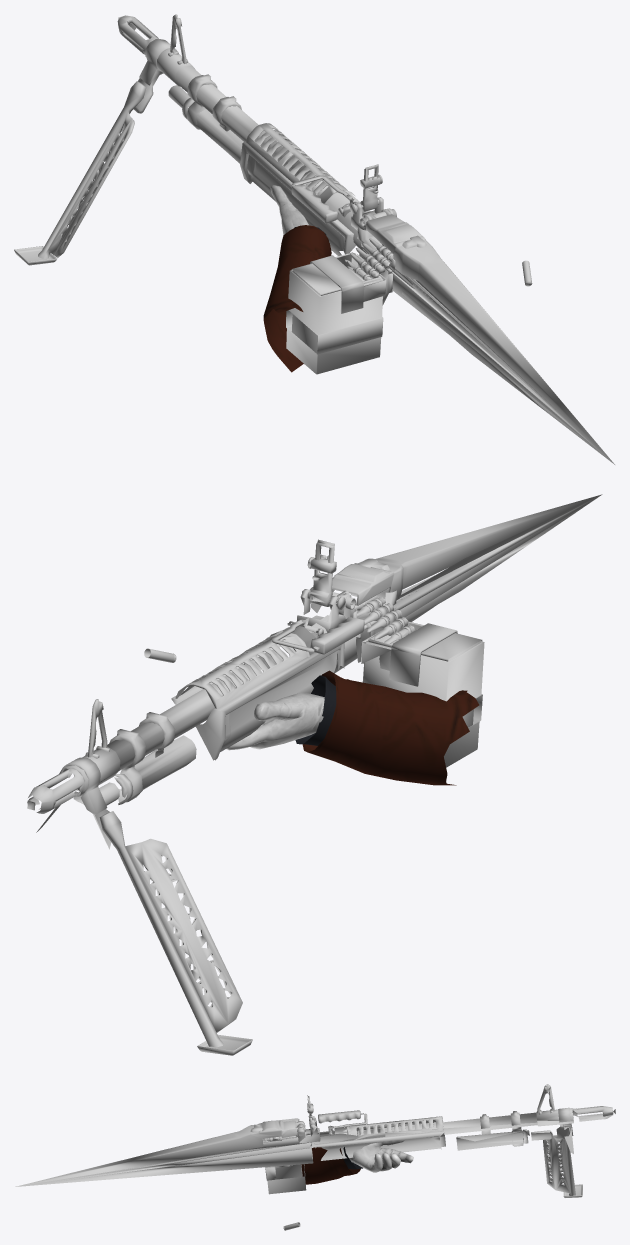
File: frame_12.obj
3 views of the same model, one above another, from view 1: azimuth 30°, elevation 25°; view 2: azimuth 150°, elevation 25°; view 3: azimuth 270°, elevation 25° (orthographic). The views are drawn at different scales.
Parts seen in each view (by area): view 1: Mesh.005, PlayerModelMerged.001_PlayerModelMerged, Mesh.001; view 2: Mesh.005, PlayerModelMerged.001_PlayerModelMerged, Mesh.001; view 3: Mesh.005, PlayerModelMerged.001_PlayerModelMerged.
Part boxes in pixels (x1=…): Mesh.005: x1=14, y1=14, x2=614, y2=464; PlayerModelMerged.001_PlayerModelMerged: x1=263, y1=185, x2=331, y2=372; Mesh.001: x1=344, y1=238, x2=393, y2=280; Mesh.005: x1=27, y1=494, x2=602, y2=1055; PlayerModelMerged.001_PlayerModelMerged: x1=226, y1=670, x2=479, y2=785; Mesh.001: x1=355, y1=597, x2=414, y2=642; Mesh.005: x1=15, y1=1084, x2=613, y2=1197; PlayerModelMerged.001_PlayerModelMerged: x1=301, y1=1139, x2=413, y2=1184.
Bounding box in the file's own units: 0.8112 × 0.6118 × 2.26.
